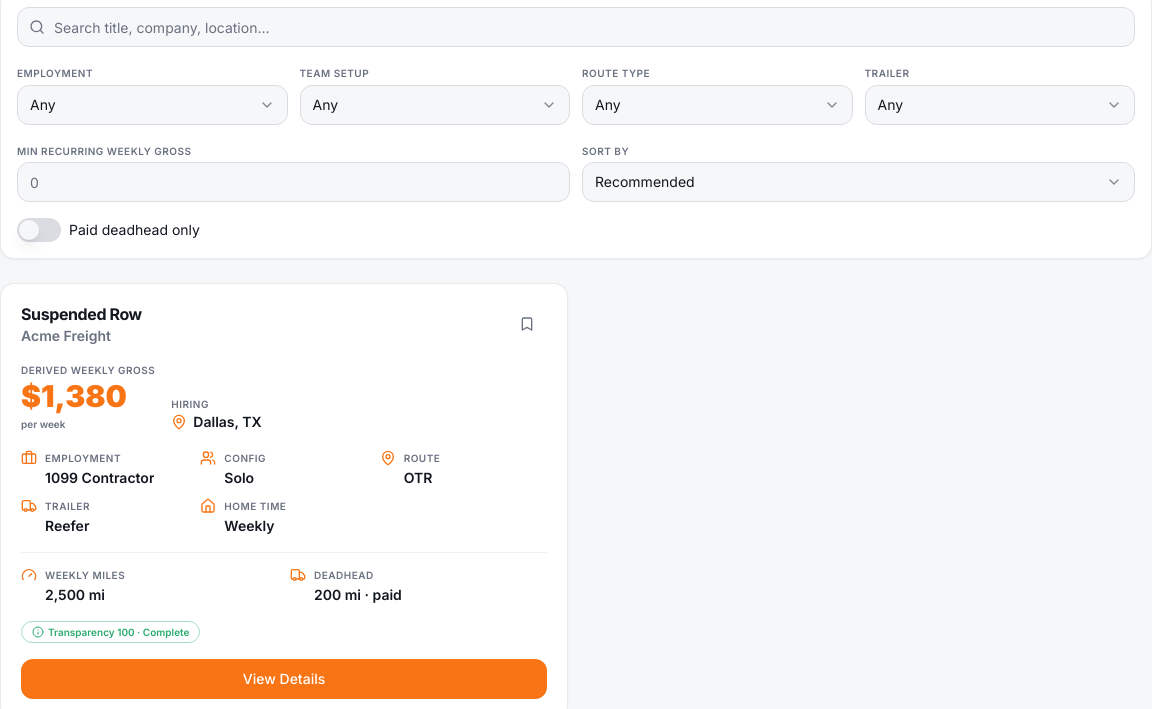
Scenario: Phase 1L-F2C · Trust separation — verified active vs suspended › 11b. Approved but suspended recruiter renders no Verified Recruiter on card or detail
(page scrolled)
Click the button "View Details". click: click(284, 679)
box: [21,659,547,699]
(page scrolled)
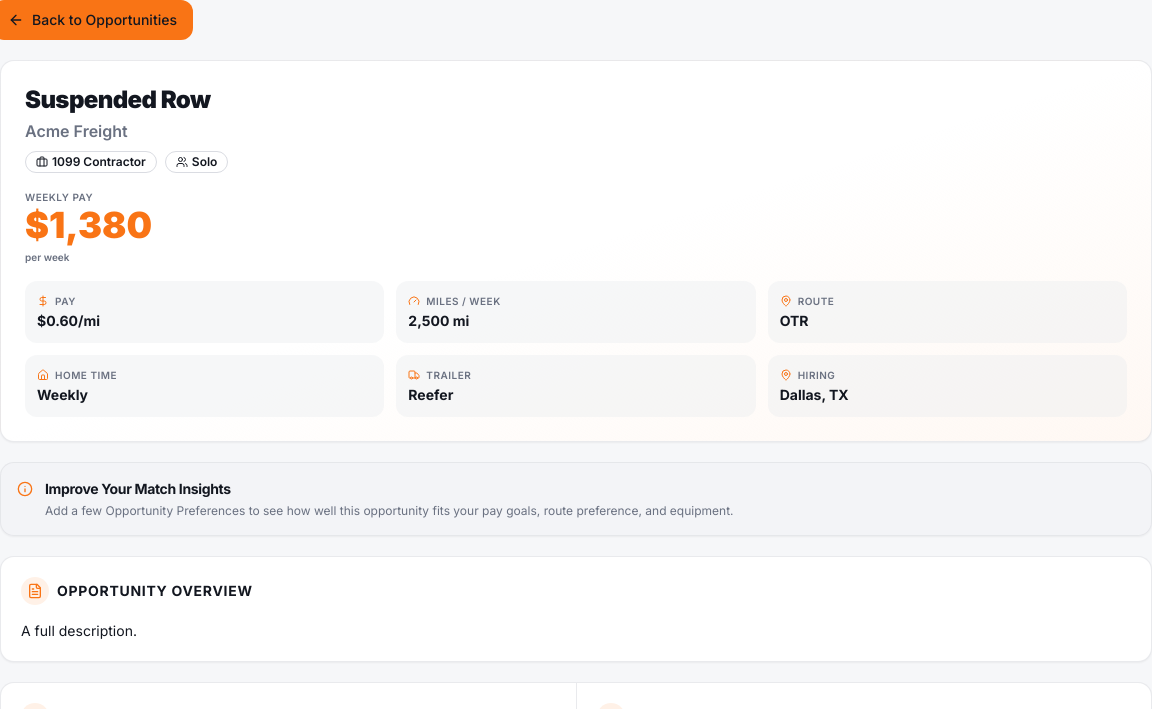
Now the heading "Suspended Row" is shown, box [25,85,210,115]
